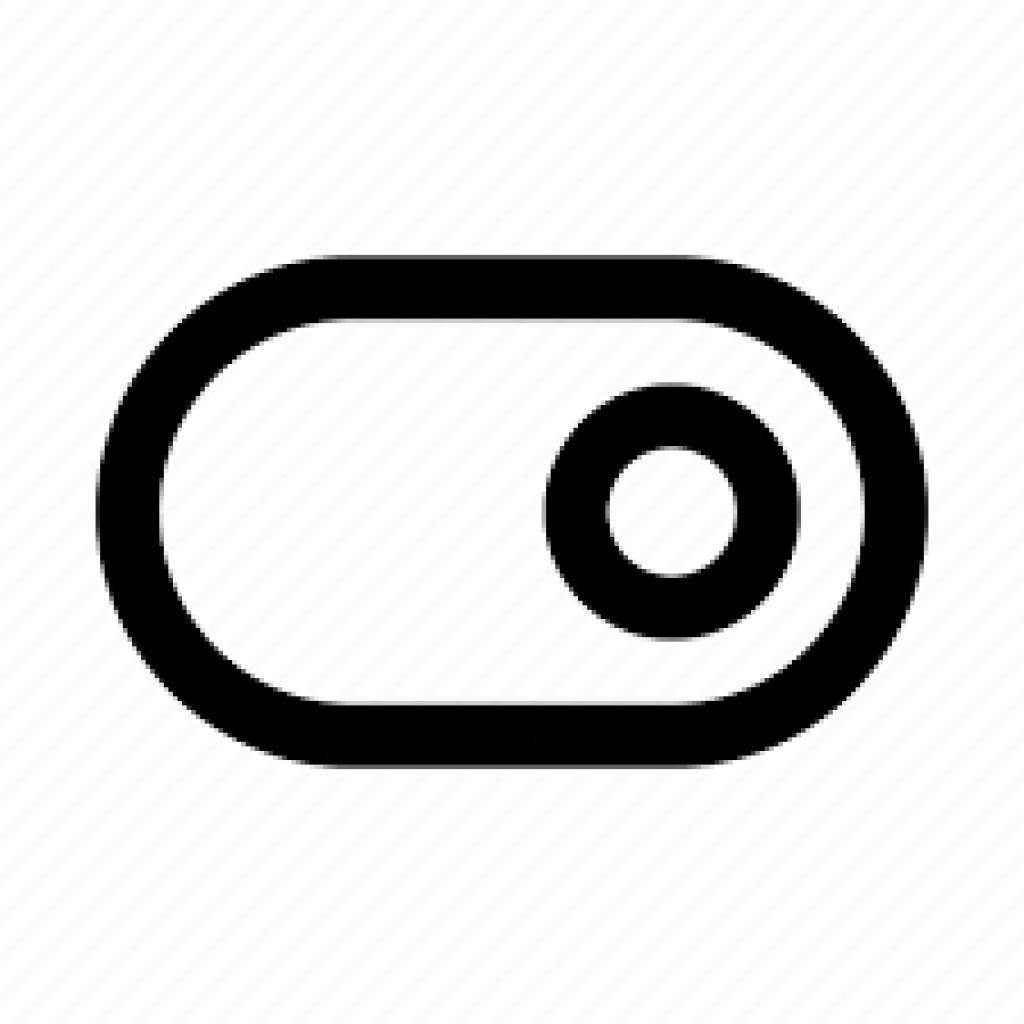switch: (93, 256, 932, 772)
